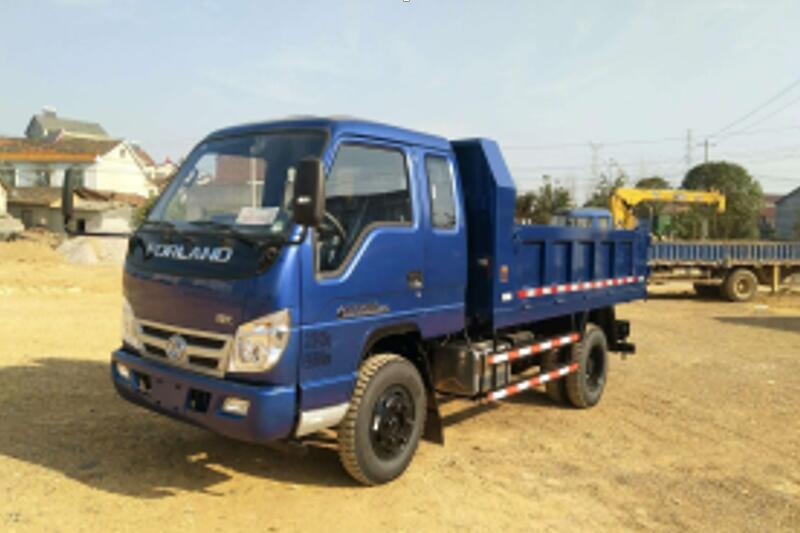truck: (104, 104, 655, 487)
